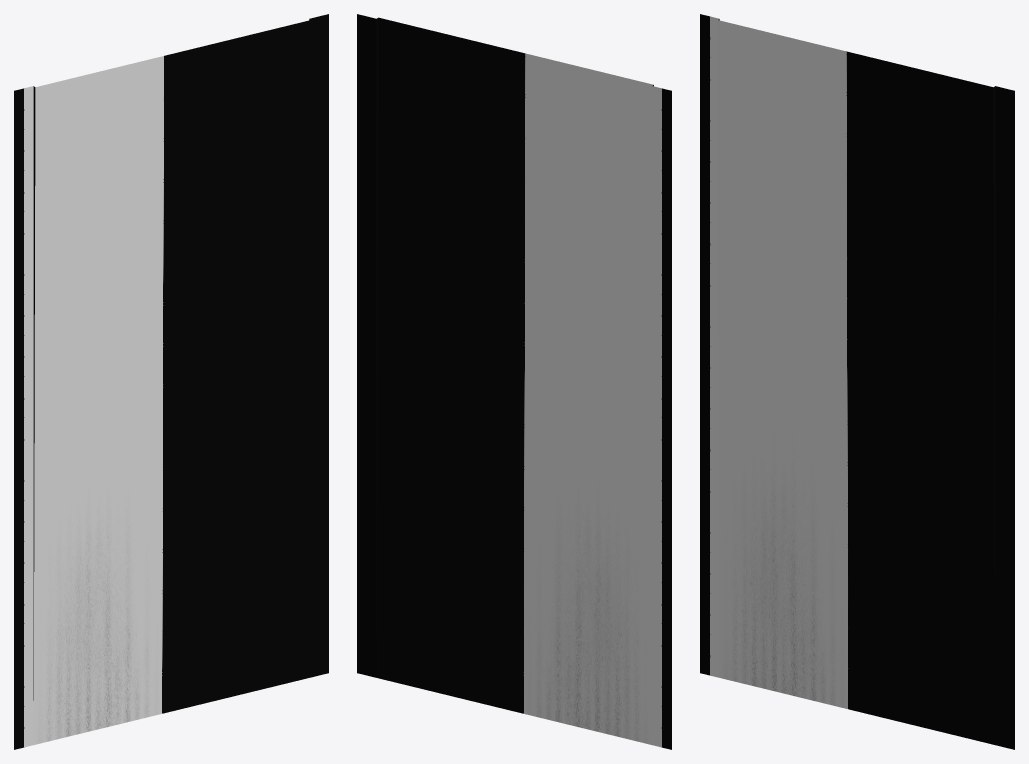
File: basic-6ls-node-2.fbx
The picture shows the model from 3 angles, left to right: view 1: azimuth 30°, elevation 25°; view 2: azimuth 150°, elevation 25°; view 3: azimuth 330°, elevation 25°; orthographic projection.
Parts seen in each view (by area): view 1: basic-6ls-node-2; view 2: basic-6ls-node-2; view 3: basic-6ls-node-2.
Part boxes in pixels (x1,y1,x2,y2): basic-6ls-node-2: (14, 14, 328, 749); basic-6ls-node-2: (357, 14, 671, 749); basic-6ls-node-2: (700, 14, 1014, 749).
Size of the model in its own units: 3200 by 6400 by 30.
